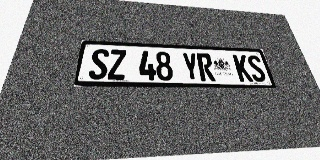4: (139, 51, 156, 80)
8: (155, 51, 173, 81)
K: (232, 55, 254, 82)
R: (196, 53, 216, 81)
S: (88, 49, 109, 80), (246, 55, 267, 82)
Y: (181, 52, 200, 81)
Z: (107, 49, 126, 80)
